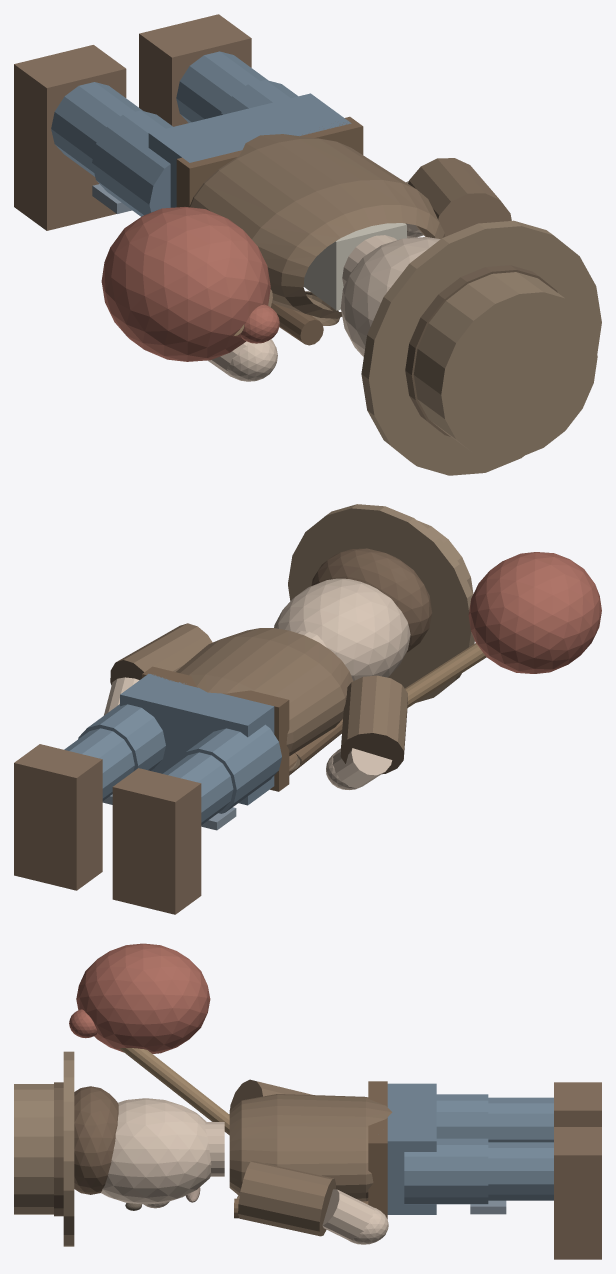
File: George_walk_07.glb
The picture shows the model from 3 angles, top to bottom: view 1: azimuth 30°, elevation 25°; view 2: azimuth 150°, elevation 25°; view 3: azimuth 270°, elevation 25°; orthographic projection. The views are drawn at different scales.
Visible parts, largest first — view 1: hat_crown, worn_cream_work_shirt, tied_cloth_bindle, weathered_felt_hat_brim, work_boot_-1, faded_blue_denim_waist, work_boot_1, denim_thigh_-1, rolled_shirt_sleeve_1, fair_skin_face, denim_calf_-1, denim_calf_1 (+7 smaller); view 2: tied_cloth_bindle, weathered_felt_hat_brim, work_boot_-1, work_boot_1, worn_cream_work_shirt, fair_skin_face, faded_blue_denim_waist, rolled_shirt_sleeve_-1, short_brown_hair, denim_thigh_-1, rolled_shirt_sleeve_1, denim_thigh_1 (+6 smaller); view 3: worn_cream_work_shirt, tied_cloth_bindle, fair_skin_face, work_boot_1, rolled_shirt_sleeve_1, denim_thigh_1, hat_crown, faded_blue_denim_waist, short_brown_hair, denim_calf_1, denim_calf_-1, denim_thigh_-1 (+11 smaller).
Boxes of the visible parts, left/top/right/bottom form: hat_crown: left=413, top=272, right=597, bottom=459; worn_cream_work_shirt: left=189, top=134, right=444, bottom=325; tied_cloth_bindle: left=101, top=207, right=270, bottom=361; weathered_felt_hat_brim: left=361, top=220, right=601, bottom=475; work_boot_-1: left=14, top=45, right=126, bottom=230; faded_blue_denim_waist: left=148, top=93, right=351, bottom=207; work_boot_1: left=139, top=14, right=251, bottom=126; denim_thigh_-1: left=92, top=110, right=172, bottom=216; rolled_shirt_sleeve_1: left=408, top=158, right=511, bottom=238; fair_skin_face: left=340, top=237, right=440, bottom=356; denim_calf_-1: left=51, top=82, right=142, bottom=176; denim_calf_1: left=176, top=51, right=267, bottom=122; tied_cloth_bindle: left=468, top=552, right=601, bottom=673; weathered_felt_hat_brim: left=288, top=504, right=474, bottom=702; work_boot_-1: left=112, top=768, right=201, bottom=914; work_boot_1: left=14, top=744, right=102, bottom=890; worn_cream_work_shirt: left=176, top=628, right=352, bottom=771; fair_skin_face: left=274, top=578, right=410, bottom=680; faded_blue_denim_waist: left=120, top=673, right=274, bottom=805; rolled_shirt_sleeve_-1: left=340, top=675, right=407, bottom=774; short_brown_hair: left=311, top=548, right=432, bottom=652; denim_thigh_-1: left=177, top=724, right=281, bottom=813; rolled_shirt_sleeve_1: left=110, top=623, right=212, bottom=685; denim_thigh_1: left=78, top=704, right=165, bottom=771; worn_cream_work_shirt: left=229, top=1094, right=392, bottom=1201; tied_cloth_bindle: left=76, top=943, right=210, bottom=1053; fair_skin_face: left=101, top=1098, right=211, bottom=1204; work_boot_1: left=554, top=1127, right=601, bottom=1259; rolled_shirt_sleeve_1: left=238, top=1161, right=335, bottom=1236; denim_thigh_1: left=404, top=1138, right=488, bottom=1204; hat_crown: left=14, top=1084, right=53, bottom=1214; faded_blue_denim_waist: left=387, top=1083, right=436, bottom=1214; short_brown_hair: left=74, top=1086, right=118, bottom=1194; denim_calf_1: left=488, top=1142, right=553, bottom=1200; denim_calf_-1: left=488, top=1097, right=553, bottom=1142; denim_thigh_-1: left=436, top=1094, right=488, bottom=1138.
Bounding box in the file's own units: 1.72 × 0.93 × 2.46.
